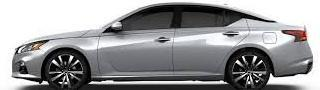Cars: (14, 4, 314, 90)
